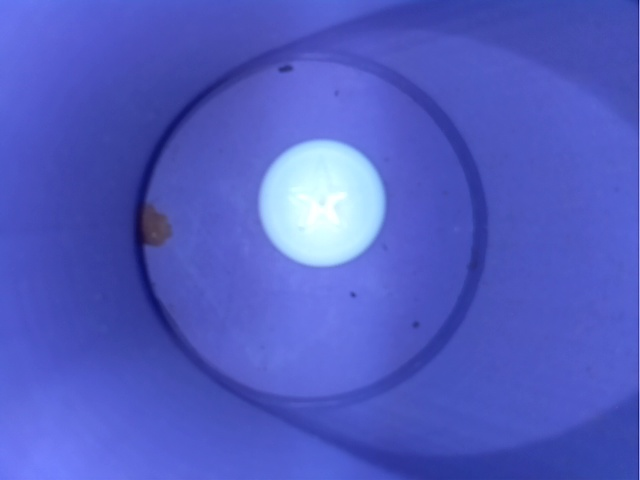bouchon: (239, 127, 405, 275)
